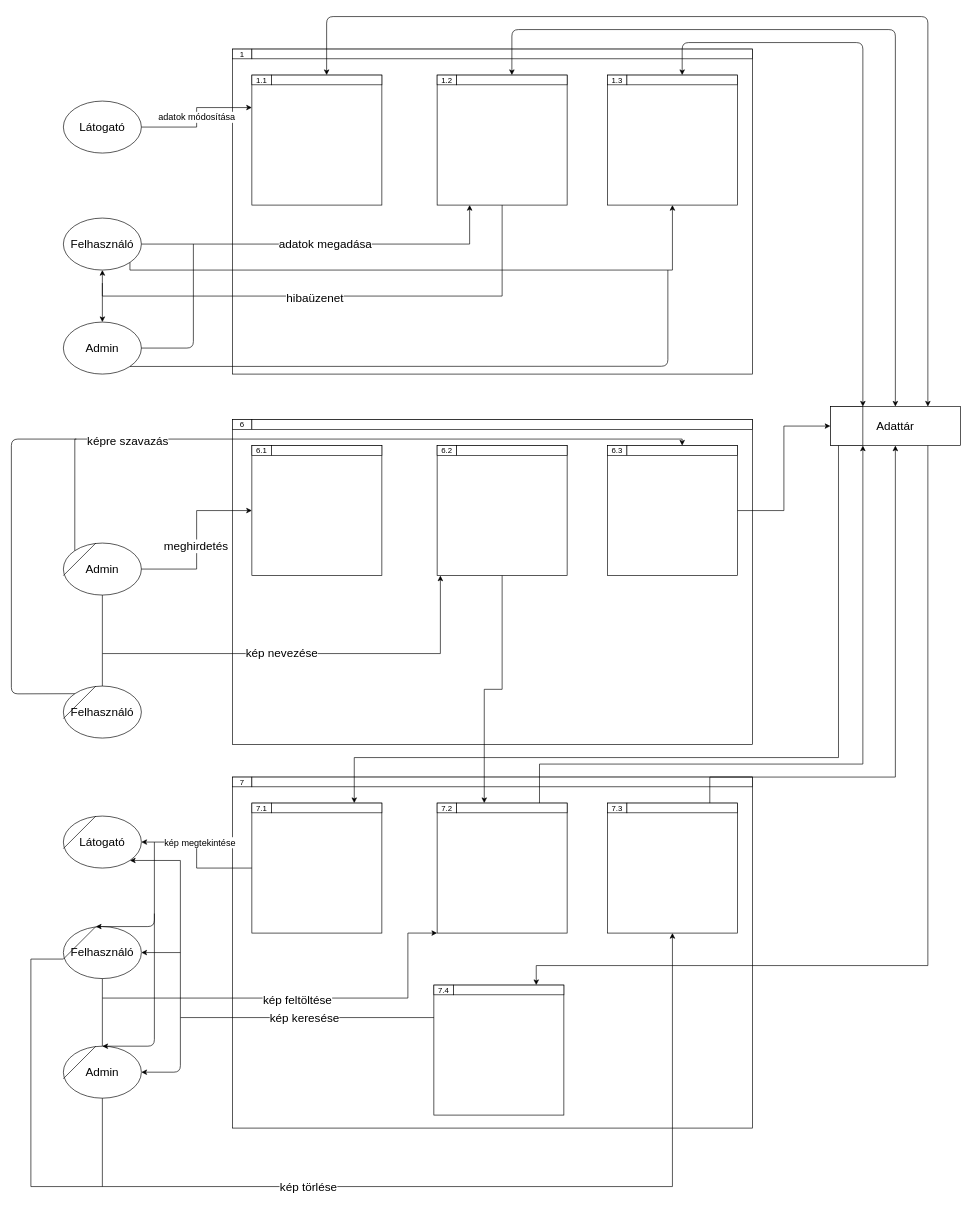
Some shapes in this 972 by 1206 pixel diagram are drawn without their labels. Each missing label, with the box of its shape:
Bejelentkezés: (436, 74, 567, 205)
D1: (830, 406, 863, 446)
Feltöltés: (436, 802, 567, 933)
Keresés: cím, felhasználó, kategória, település, kulcsszó szerint: (433, 984, 564, 1115)
Kijelentkezés: (607, 74, 737, 205)
Megtekintés: (251, 802, 382, 933)
Nevezés: (436, 445, 567, 576)
Regisztráció: (251, 74, 382, 205)
Szavazás: (607, 445, 737, 576)
Törlés: (607, 802, 737, 933)
Verseny meghirdetése: (251, 445, 382, 576)
